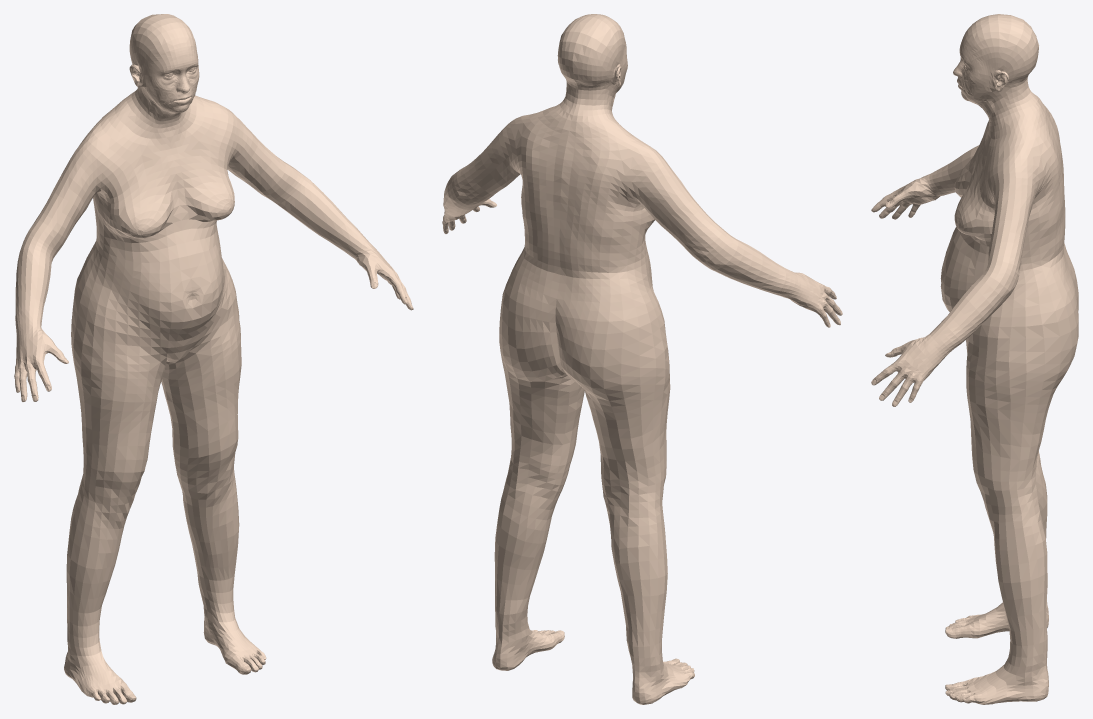
File: female-older-max-low.glb
The picture shows the model from 3 angles, left to right: view 1: azimuth 30°, elevation 25°; view 2: azimuth 150°, elevation 25°; view 3: azimuth 270°, elevation 25°; orthographic projection.
Visible parts, largest first — view 1: world; view 2: world; view 3: world.
Part boxes in pixels (box(x1,y1,x2,y2)): world: box(14, 14, 413, 704); world: box(442, 14, 842, 704); world: box(871, 14, 1078, 704).
Size of the model in its own units: 1.13 by 1.8 by 0.523.
